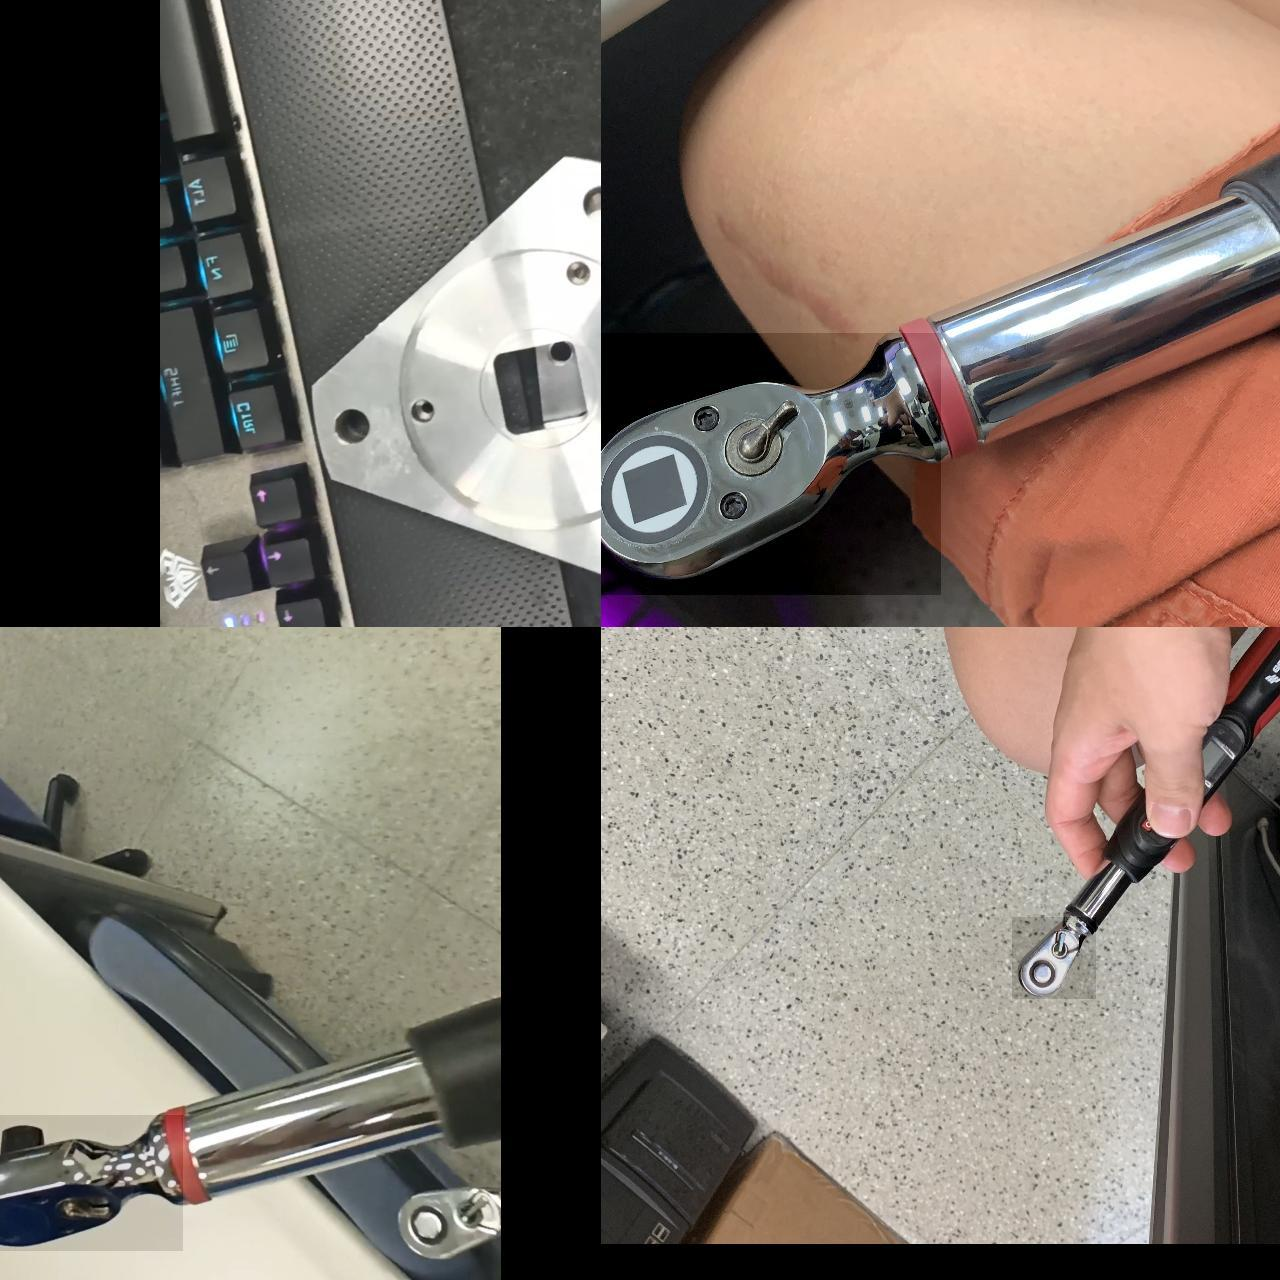Tool: (601, 332, 941, 594), (0, 1114, 183, 1250), (395, 1189, 501, 1259), (1012, 915, 1096, 998)
